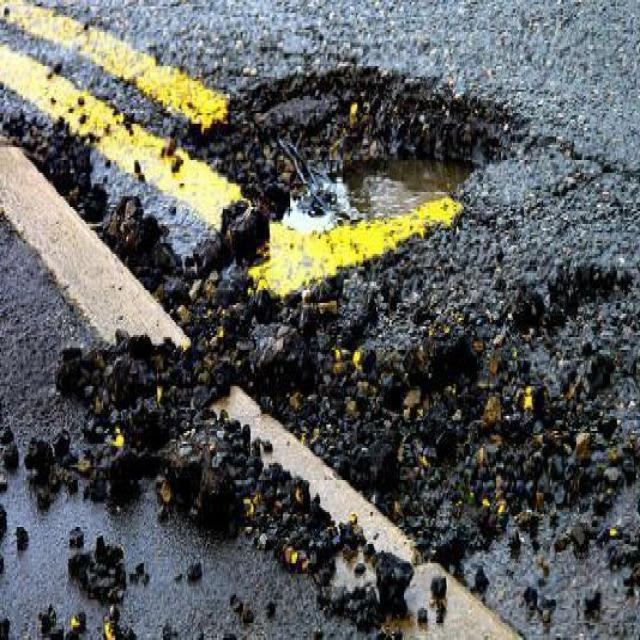pothole: (185, 46, 534, 261)
